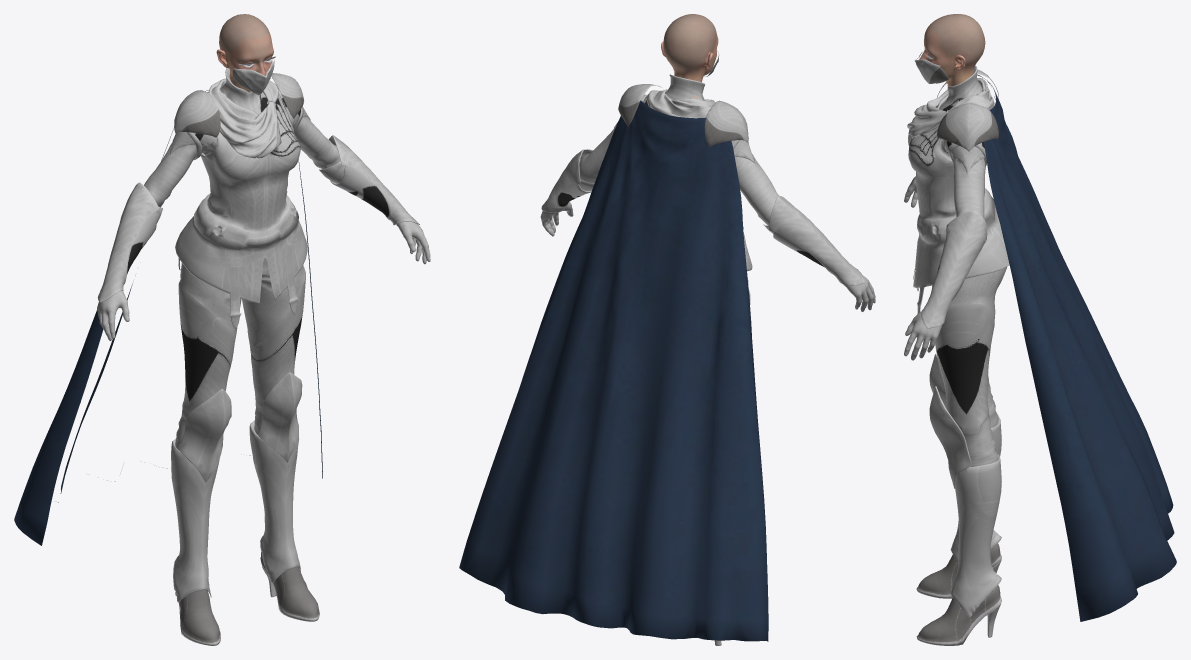
The picture shows the model from 3 angles, left to right: view 1: azimuth 30°, elevation 25°; view 2: azimuth 150°, elevation 25°; view 3: azimuth 270°, elevation 25°; orthographic projection.
Visible parts, largest first — view 1: GF_0052_T03_Body, GF_0052_T03_Boots, GF_0052_T03_Pants, GF_0052_T03_Glove, GF_0052_T03_Cape, GF_BaseHead, GF_0052_T03_Shoulder, GF_0052_T03_Helmet; view 2: GF_0052_T03_Cape, GF_0052_T03_Glove, GF_0052_T03_Body, GF_BaseHead, GF_0052_T03_Shoulder; view 3: GF_0052_T03_Cape, GF_0052_T03_Boots, GF_0052_T03_Body, GF_0052_T03_Pants, GF_0052_T03_Glove, GF_BaseHead, GF_0052_T03_Shoulder, GF_0052_T03_Helmet.
Part boxes in pixels (x1=…): GF_0052_T03_Body: x1=144, y1=68, x2=340, y2=329; GF_0052_T03_Boots: x1=171, y1=372, x2=319, y2=645; GF_0052_T03_Pants: x1=175, y1=258, x2=305, y2=451; GF_0052_T03_Glove: x1=97, y1=135, x2=430, y2=340; GF_0052_T03_Cape: x1=14, y1=78, x2=322, y2=545; GF_BaseHead: x1=216, y1=14, x2=275, y2=92; GF_0052_T03_Shoulder: x1=174, y1=73, x2=303, y2=137; GF_0052_T03_Helmet: x1=232, y1=59, x2=274, y2=95; GF_0052_T03_Cape: x1=459, y1=100, x2=768, y2=641; GF_0052_T03_Glove: x1=540, y1=149, x2=875, y2=311; GF_0052_T03_Body: x1=579, y1=74, x2=779, y2=271; GF_BaseHead: x1=661, y1=14, x2=718, y2=99; GF_0052_T03_Shoulder: x1=618, y1=84, x2=748, y2=146; GF_0052_T03_Cape: x1=977, y1=74, x2=1176, y2=621; GF_0052_T03_Boots: x1=916, y1=353, x2=1001, y2=645; GF_0052_T03_Body: x1=907, y1=65, x2=1009, y2=313; GF_0052_T03_Pants: x1=932, y1=267, x2=1006, y2=467; GF_0052_T03_Glove: x1=904, y1=176, x2=987, y2=360; GF_BaseHead: x1=919, y1=14, x2=985, y2=86; GF_0052_T03_Shoulder: x1=937, y1=69, x2=998, y2=151; GF_0052_T03_Helmet: x1=915, y1=51, x2=948, y2=83.
Bounding box in the file's own units: 1.03 × 1.82 × 0.7532.
Materials: 10 (9 with a texture image).
